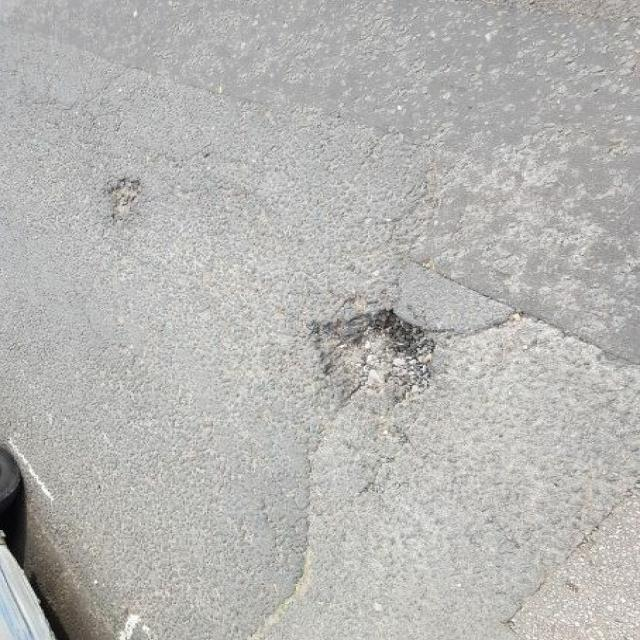pothole: (296, 304, 446, 392)
